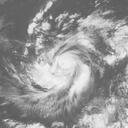cyclone: (54, 49, 83, 77)
